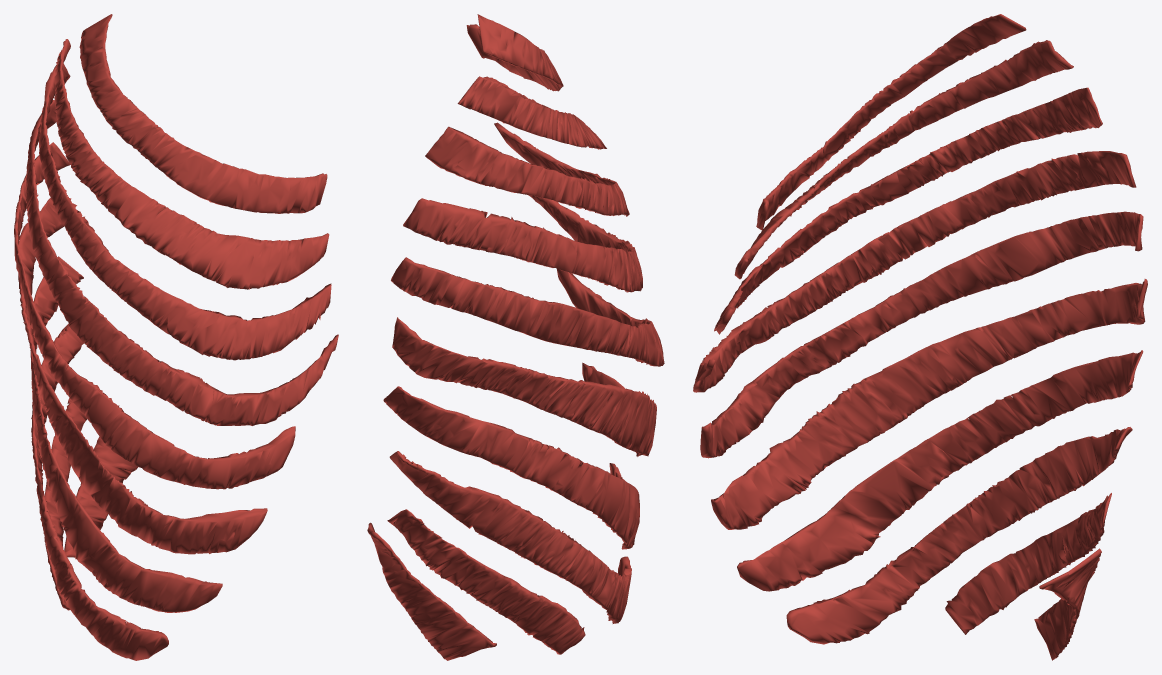
Rendered from musculos-internal-intercostal-muscles-r.glb.
The picture shows the model from 3 angles, left to right: view 1: azimuth 30°, elevation 25°; view 2: azimuth 150°, elevation 25°; view 3: azimuth 270°, elevation 25°; orthographic projection. The views are drawn at different scales.
Visible parts, largest first — view 1: Internal intercostal muscles.r; view 2: Internal intercostal muscles.r; view 3: Internal intercostal muscles.r.
Part boxes in pixels (<box>): Internal intercostal muscles.r: <box>14,14,338,660</box>; Internal intercostal muscles.r: <box>367,14,664,660</box>; Internal intercostal muscles.r: <box>693,14,1147,660</box>.
Bounding box in the file's own units: 0.1256 × 0.33 × 0.2061.
